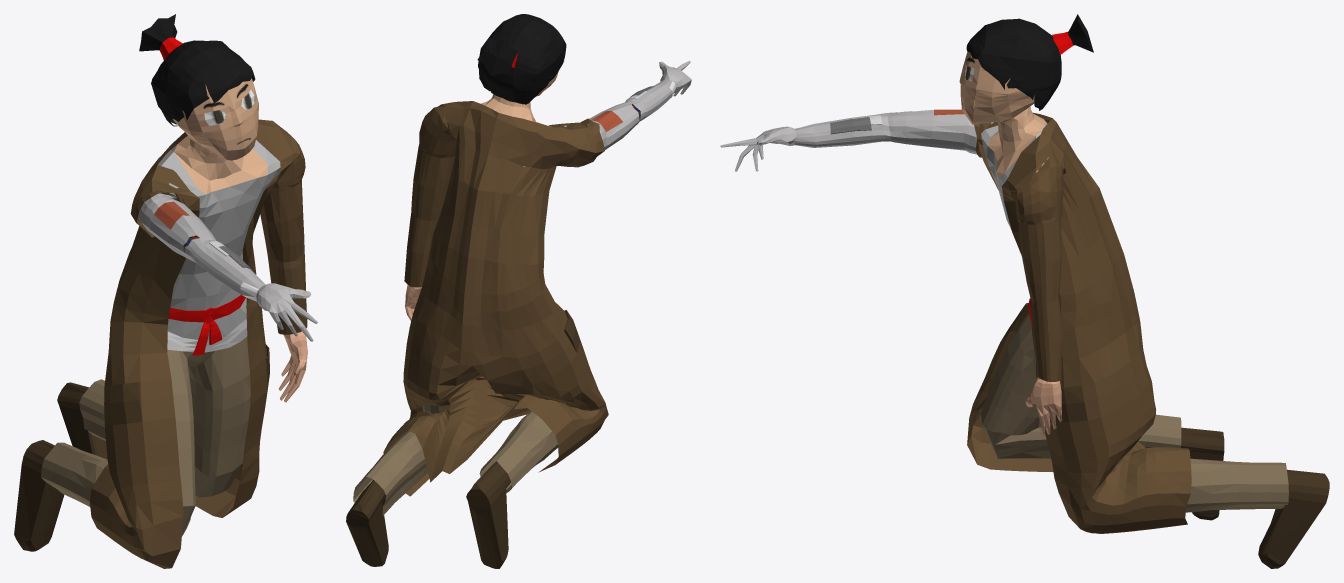
The model's file is One_Die_000032.obj.
The picture shows the model from 3 angles, left to right: view 1: azimuth 30°, elevation 25°; view 2: azimuth 150°, elevation 25°; view 3: azimuth 270°, elevation 25°; orthographic projection. The views are drawn at different scales.
Parts seen in each view (by area): view 1: Hair_Cube.004; view 2: Hair_Cube.004; view 3: Hair_Cube.004.
Boxes of the visible parts, x1,y1,x2,y2 form: Hair_Cube.004: (14, 14, 317, 568); Hair_Cube.004: (346, 14, 691, 568); Hair_Cube.004: (720, 14, 1329, 568).
Bounding box in the file's own units: 1.14 × 3.03 × 3.14.
